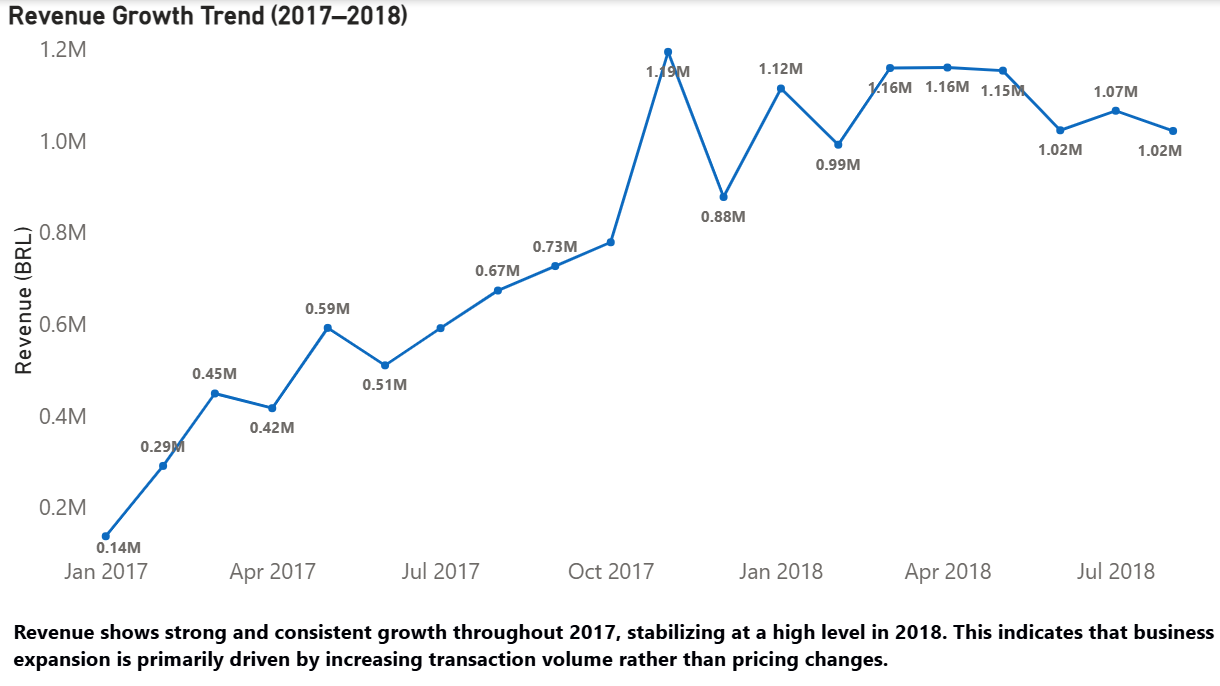

Layout of this report page (visuals, bound fields, positions):
{"tool":"powerbi","page":{"name":"Monthly Revenue trend","canvas":[1280,720],"ordinal":0},"visuals":[{"type":"lineChart","title":"Revenue Growth Trend (2017–2018)","fields":{"Y":["Sum(olist_revenue_trend.revenue)"],"Category":["olist_revenue_trend.month"]},"box":[5.8,0,1269.2,623.1],"z":0},{"type":"textbox","box":[11.5,640.4,1269.2,78.8],"z":1000}]}

Visuals, with their boxes in screenshot pixels (x1, y1, x2, y2), scaled from the page's 1280x720 canvas onto the 1220x686 screenshot:
"Revenue Growth Trend (2017–2018)" lineChart: (left=6, top=0, right=1215, bottom=594)
textbox: (left=11, top=610, right=1219, bottom=685)
